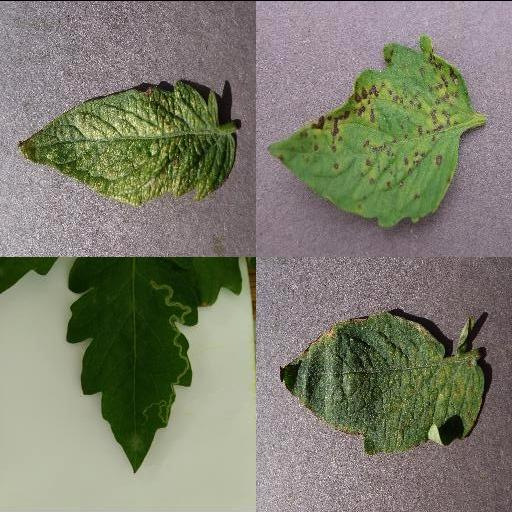Leaf Miner: (65, 256, 197, 475)
Septoria: (266, 32, 472, 224)
Spider Mites: (279, 311, 487, 455), (17, 80, 235, 206)
